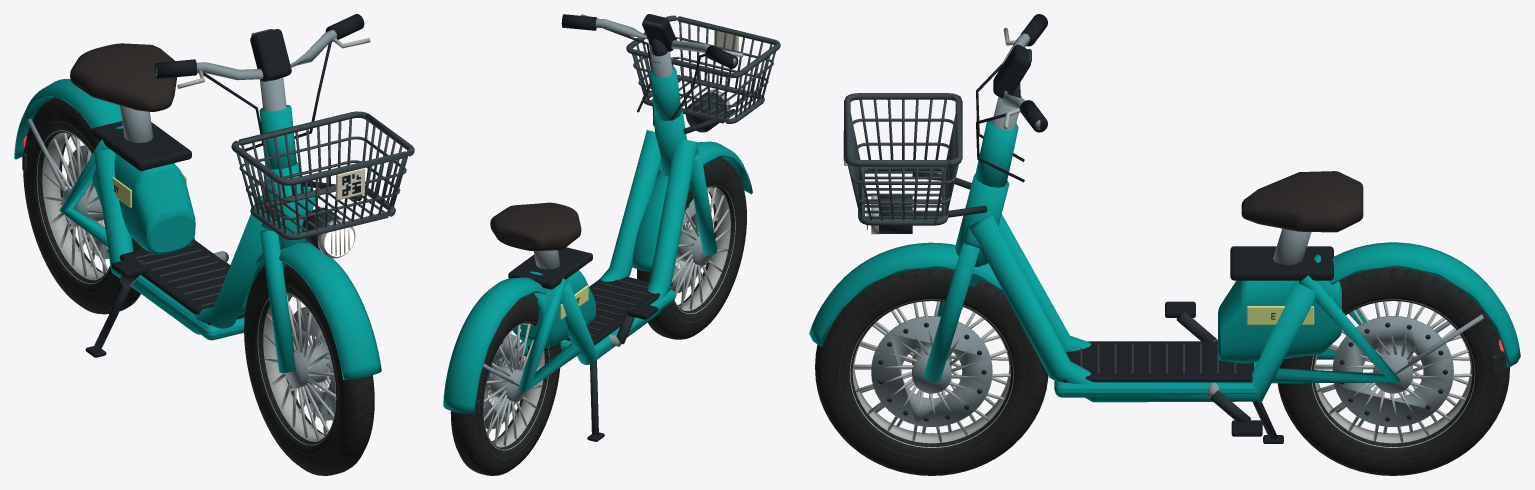
Rendered from 共享电驴.glb.
3 views of the same model, side by side, from view 1: azimuth 30°, elevation 25°; view 2: azimuth 150°, elevation 25°; view 3: azimuth 270°, elevation 25° (orthographic). The views are drawn at different scales.
Parts seen in each view (by area): view 1: Body, Steering, Wheel.Front, Wheel.Rear, Light.Front; view 2: Body, Steering, Wheel.Rear, Wheel.Front, Light.Front; view 3: Body, Wheel.Front, Wheel.Rear, Steering, Light.Front.
Boxes of the visible parts, x1,y1,x2,y2 form: Body: (14,43,315,357); Steering: (155,14,414,380); Wheel.Front: (244,264,374,475); Wheel.Rear: (23,97,143,314); Light.Front: (302,207,355,258); Body: (443,109,697,441); Steering: (561,14,780,271); Wheel.Rear: (450,293,560,475); Wheel.Front: (637,157,746,339); Light.Front: (685,89,730,132); Body: (955,171,1520,443); Wheel.Front: (815,268,1048,475); Wheel.Rear: (1277,268,1509,475); Steering: (809,14,1051,382); Light.Front: (866,193,912,234).
Bounding box in the file's own units: 0.56 × 1.05 × 1.6.
Materials: 14 (4 with a texture image).
